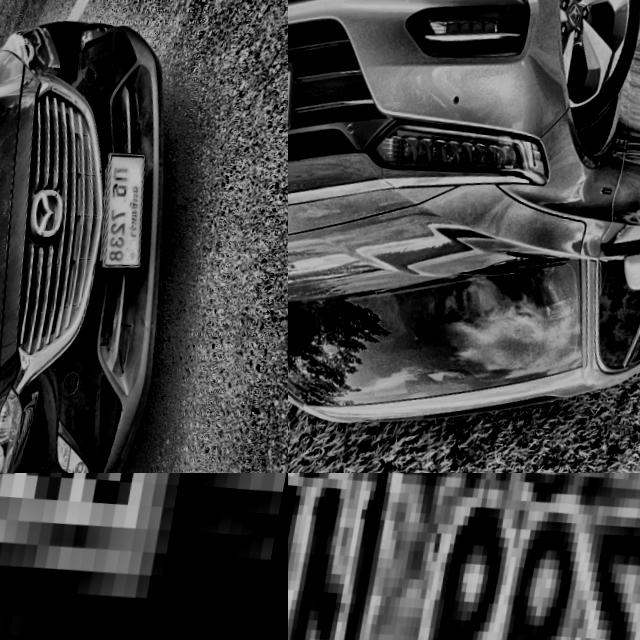license-plate: (288, 473, 640, 640), (0, 473, 288, 640)
